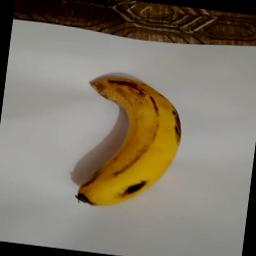Banana Unripe: (57, 64, 192, 218)
